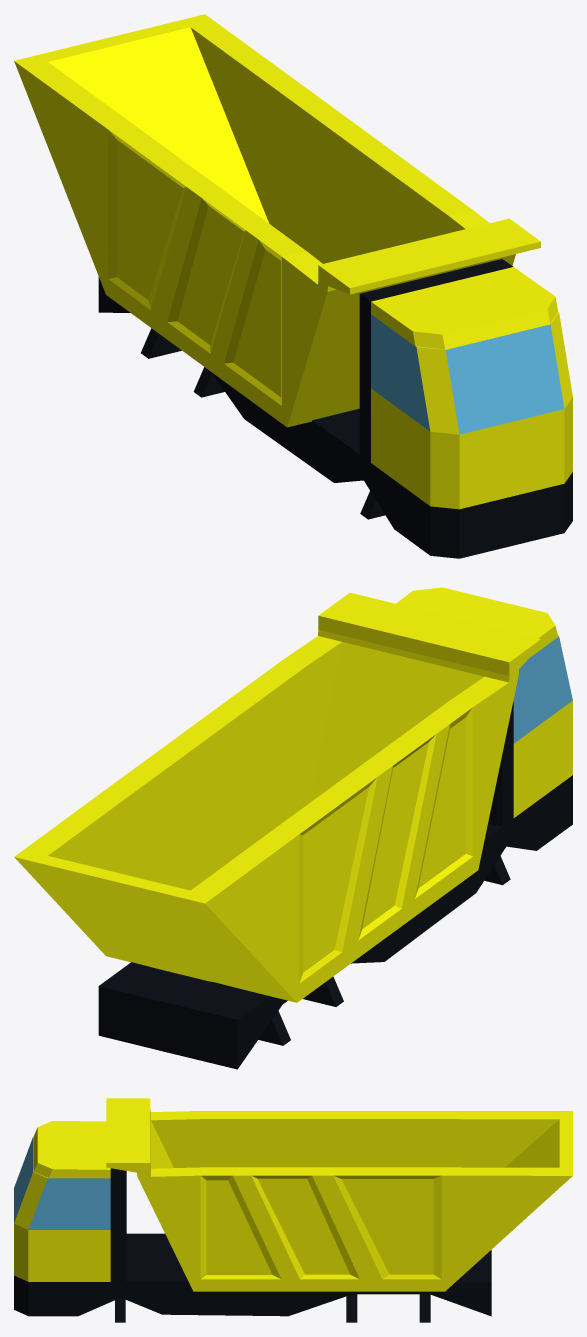
Rendered from dump-truck.glb.
3 renders of one model, top to bottom at view 1: azimuth 30°, elevation 25°; view 2: azimuth 150°, elevation 25°; view 3: azimuth 270°, elevation 25°, orthographic. The views are drawn at different scales.
Parts seen in each view (by area): view 1: Truck; view 2: Truck; view 3: Truck.
Boxes of the visible parts, <box> form: Truck: <box>14,14,572,558</box>; Truck: <box>14,587,572,1069</box>; Truck: <box>14,1098,572,1322</box>.
Bounding box in the file's own units: 2.68 × 3.24 × 9.78.
